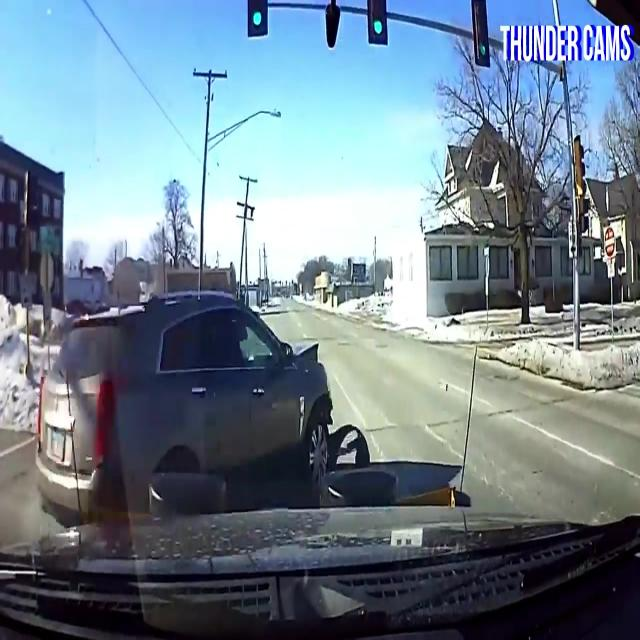accident: (23, 275, 339, 518)
